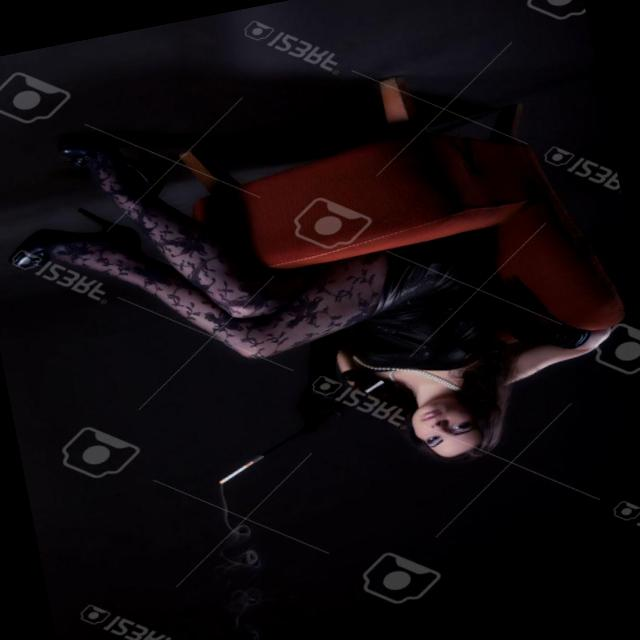smoke: (197, 446, 276, 500)
